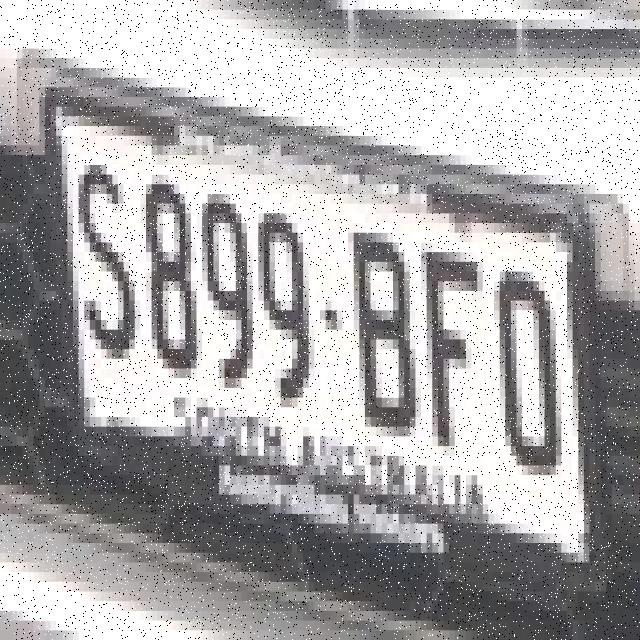licenseplate: (29, 39, 612, 602)
